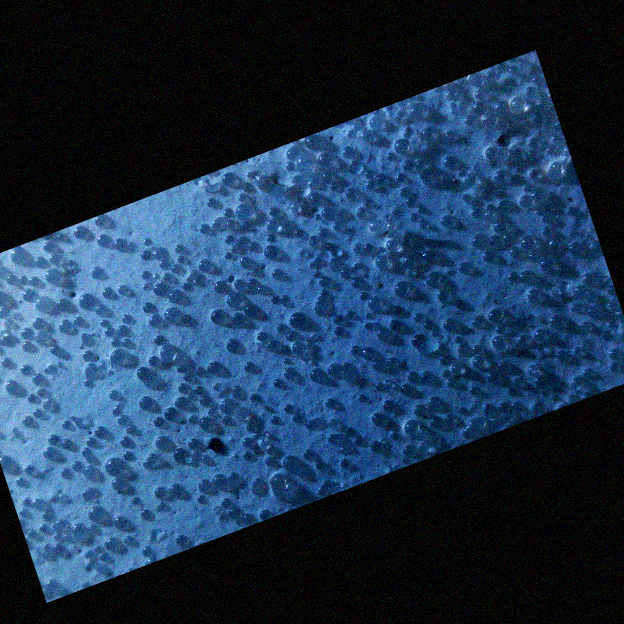GrassBeadSeg: (56, 96, 566, 529), (146, 91, 509, 517), (51, 113, 474, 458), (81, 147, 554, 455), (111, 176, 535, 488), (15, 206, 481, 485), (21, 85, 531, 336), (0, 290, 562, 516), (201, 91, 483, 490), (43, 158, 413, 456), (101, 112, 417, 437), (224, 214, 572, 505), (7, 282, 452, 509), (48, 257, 430, 517), (83, 214, 452, 476), (13, 160, 293, 501), (156, 113, 462, 425), (86, 252, 541, 457), (154, 102, 423, 447), (20, 135, 409, 373), (22, 173, 301, 503), (87, 209, 366, 519), (108, 134, 431, 399), (212, 144, 554, 389), (58, 145, 495, 332), (117, 260, 552, 444), (82, 344, 592, 498), (49, 190, 528, 353), (296, 136, 537, 458), (84, 352, 463, 556), (264, 112, 480, 464), (61, 306, 580, 447), (154, 217, 413, 495), (41, 218, 278, 518), (73, 173, 265, 534), (32, 174, 319, 415), (86, 177, 296, 503), (254, 246, 514, 488), (251, 234, 498, 488), (263, 182, 476, 469), (72, 330, 499, 469), (113, 88, 481, 248), (122, 249, 334, 525), (22, 355, 613, 454), (17, 218, 273, 446), (242, 110, 542, 303), (54, 358, 392, 528), (94, 213, 545, 339), (94, 182, 530, 312), (94, 214, 332, 435), (78, 225, 292, 470), (93, 272, 593, 375), (72, 283, 274, 535), (32, 317, 373, 466), (143, 236, 376, 451), (219, 233, 484, 411), (38, 267, 348, 417), (89, 352, 463, 475), (347, 101, 483, 436), (153, 169, 327, 424), (225, 213, 546, 350), (344, 196, 527, 436), (248, 242, 544, 388), (41, 170, 274, 347), (239, 187, 407, 430), (43, 246, 209, 490), (472, 84, 620, 357), (48, 275, 365, 400), (153, 125, 380, 295), (43, 240, 371, 357), (38, 283, 446, 376), (5, 240, 256, 391), (126, 290, 367, 447), (60, 385, 474, 476), (295, 153, 501, 332), (289, 234, 497, 411), (234, 201, 381, 451), (227, 242, 361, 516), (266, 71, 480, 241), (317, 151, 484, 368), (287, 156, 538, 299), (308, 87, 535, 245), (104, 429, 398, 550), (275, 111, 402, 386), (73, 345, 354, 469), (123, 321, 373, 458), (154, 370, 416, 497), (286, 145, 550, 269), (4, 273, 345, 369), (140, 407, 434, 518), (103, 319, 588, 386), (176, 259, 448, 376), (21, 412, 453, 485), (131, 294, 278, 503), (298, 126, 432, 352), (446, 86, 579, 310), (239, 236, 580, 323), (96, 159, 532, 225), (52, 357, 384, 443), (109, 299, 560, 362), (99, 368, 287, 519), (243, 252, 388, 446), (223, 130, 373, 316), (43, 219, 223, 372), (270, 233, 522, 342), (105, 292, 256, 473), (283, 212, 417, 411), (296, 126, 412, 353), (332, 220, 478, 395), (375, 173, 504, 370), (508, 64, 589, 376), (389, 246, 520, 438), (43, 296, 370, 372), (155, 318, 432, 407), (95, 311, 508, 370), (45, 220, 447, 280), (65, 258, 171, 475), (357, 238, 498, 400), (346, 193, 470, 371), (221, 269, 530, 339), (206, 259, 394, 374), (339, 163, 409, 465), (198, 223, 360, 353), (328, 169, 427, 381), (117, 191, 318, 295), (370, 164, 449, 424), (79, 205, 278, 307), (139, 285, 357, 378), (122, 271, 516, 322), (226, 291, 410, 393), (113, 414, 280, 526), (23, 263, 110, 473), (73, 226, 361, 287), (263, 137, 408, 257), (334, 305, 459, 442), (402, 130, 454, 454), (326, 154, 468, 272), (172, 395, 438, 457), (175, 243, 276, 406), (248, 306, 500, 371), (80, 292, 561, 325), (136, 366, 320, 449), (32, 271, 167, 384), (231, 271, 349, 396), (237, 191, 301, 421), (368, 118, 496, 232), (140, 269, 416, 321), (270, 220, 505, 278), (35, 202, 251, 265), (221, 171, 392, 249), (21, 254, 183, 336), (292, 338, 441, 427), (155, 251, 351, 317), (341, 145, 434, 284), (104, 238, 230, 335), (213, 279, 340, 374), (182, 311, 305, 408), (230, 186, 315, 324), (29, 275, 584, 296), (197, 258, 294, 377), (481, 328, 613, 413), (89, 334, 503, 361), (211, 396, 335, 486), (0, 265, 130, 348), (221, 322, 285, 488), (249, 327, 389, 401), (9, 342, 114, 439), (211, 134, 317, 230), (328, 109, 453, 190), (364, 180, 424, 347), (236, 214, 550, 245), (243, 361, 425, 414), (168, 204, 211, 428), (270, 357, 344, 487), (15, 233, 132, 314), (525, 238, 594, 375), (338, 115, 382, 321), (309, 186, 355, 380), (274, 242, 358, 348), (153, 311, 421, 344), (91, 254, 489, 276), (445, 331, 607, 385), (469, 231, 511, 429), (390, 75, 489, 159), (304, 139, 559, 171), (176, 344, 289, 416), (186, 361, 311, 426), (224, 233, 277, 386), (317, 205, 575, 236), (367, 295, 478, 366), (277, 239, 478, 278), (225, 295, 483, 325), (242, 193, 295, 339), (317, 168, 537, 203), (97, 233, 131, 459), (119, 392, 258, 445), (152, 245, 201, 393), (220, 255, 249, 505), (292, 325, 342, 469), (42, 427, 94, 565), (375, 263, 417, 432), (149, 303, 257, 366), (32, 496, 149, 554), (147, 343, 467, 364), (393, 144, 440, 284), (339, 416, 481, 462), (147, 451, 236, 523), (225, 215, 323, 280), (355, 155, 455, 216), (181, 272, 203, 544), (332, 179, 374, 321), (59, 309, 352, 329), (142, 225, 209, 312), (111, 405, 209, 463), (100, 318, 505, 332), (98, 482, 180, 551), (215, 375, 581, 390), (48, 421, 276, 444), (158, 343, 234, 411), (404, 105, 455, 206), (174, 263, 327, 296), (10, 244, 157, 277), (438, 343, 508, 412), (199, 374, 414, 395), (171, 295, 322, 324), (366, 168, 464, 212), (388, 168, 461, 227), (143, 407, 251, 446), (339, 332, 393, 409), (363, 324, 433, 383), (306, 129, 350, 218), (471, 343, 615, 370), (467, 101, 505, 202), (8, 411, 135, 440), (385, 238, 419, 345), (11, 361, 62, 431), (11, 246, 65, 310), (520, 225, 549, 344), (280, 171, 306, 303), (361, 178, 490, 204), (240, 248, 434, 265), (312, 242, 405, 277), (393, 280, 455, 329), (93, 243, 183, 276), (243, 181, 299, 234), (206, 196, 334, 218), (443, 135, 504, 181), (330, 242, 413, 274), (0, 288, 34, 366), (445, 381, 538, 409), (404, 284, 424, 414), (247, 432, 337, 459), (511, 351, 578, 387), (314, 213, 372, 253), (35, 252, 59, 341), (437, 287, 502, 318), (7, 296, 69, 326), (29, 315, 82, 350), (191, 417, 231, 463), (168, 288, 186, 390), (481, 98, 544, 126), (19, 507, 92, 530), (27, 392, 70, 428), (235, 477, 270, 521), (175, 493, 204, 543), (244, 230, 267, 293), (454, 299, 613, 308), (141, 458, 181, 493), (82, 342, 162, 359), (103, 533, 150, 559), (56, 323, 85, 365), (414, 159, 472, 180), (223, 183, 247, 229), (213, 470, 237, 512), (2, 291, 29, 328), (185, 268, 255, 282), (20, 514, 60, 538), (572, 346, 611, 370), (162, 264, 178, 322), (483, 208, 508, 243), (363, 197, 391, 228), (482, 218, 502, 261), (586, 306, 610, 341), (312, 256, 333, 296), (189, 390, 223, 414), (363, 234, 409, 251), (389, 317, 449, 330), (0, 298, 21, 335), (44, 542, 60, 590), (138, 395, 206, 406), (484, 69, 536, 83), (180, 277, 233, 290), (404, 164, 420, 206), (7, 340, 32, 366), (242, 450, 251, 521), (232, 265, 259, 288), (527, 243, 559, 261), (183, 372, 194, 422), (212, 506, 241, 524), (293, 199, 308, 233), (384, 151, 402, 179), (122, 313, 160, 326), (39, 522, 94, 530), (364, 168, 399, 180), (193, 413, 229, 424), (457, 402, 492, 413), (225, 217, 250, 232), (324, 241, 337, 268), (56, 531, 71, 552), (531, 74, 540, 109), (26, 386, 45, 402), (606, 302, 615, 330), (93, 543, 107, 559), (519, 235, 533, 249), (290, 340, 303, 354), (85, 361, 97, 375), (110, 337, 127, 346), (199, 393, 210, 404), (549, 160, 560, 170), (240, 220, 245, 229), (448, 100, 454, 107), (450, 107, 455, 115)
